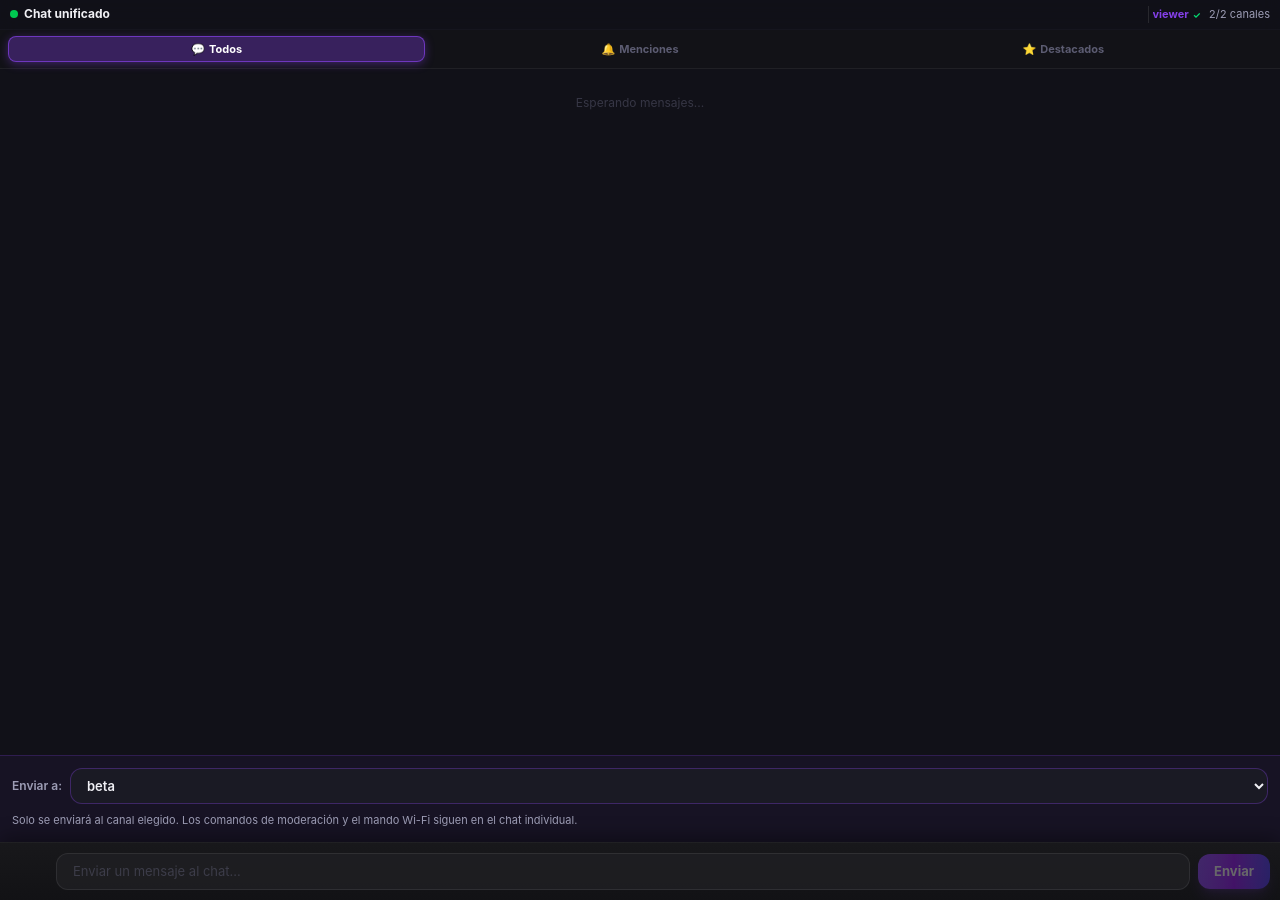
it: unified native Chat › changes the send destination without reconnecting or mixing viewer badges
Type "hi beta" into the field named "Mensaje para beta". click: x=623, y=871
box: [56, 852, 1190, 890]
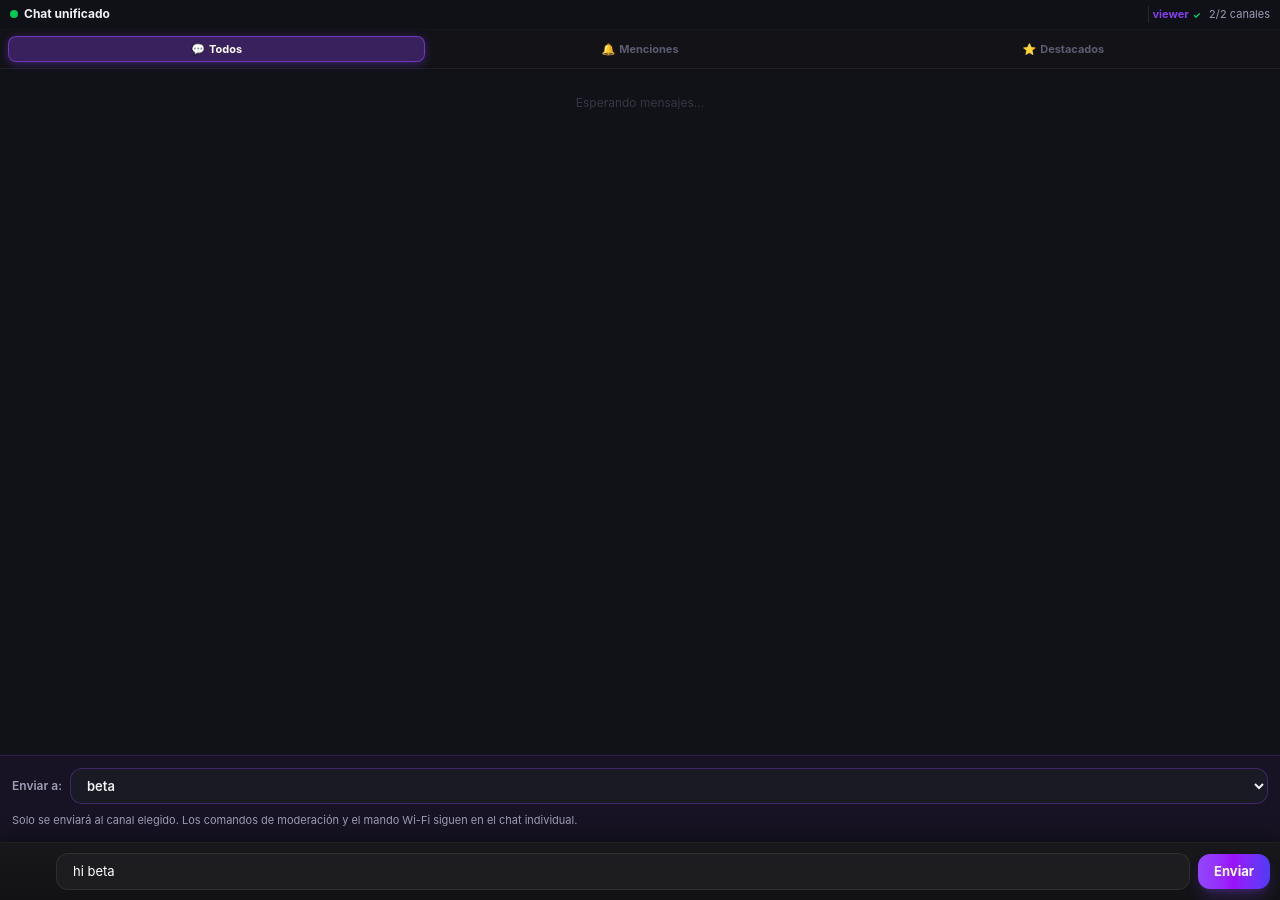
Click the button "Enviar". click: x=1234, y=871
box: [1198, 854, 1270, 889]
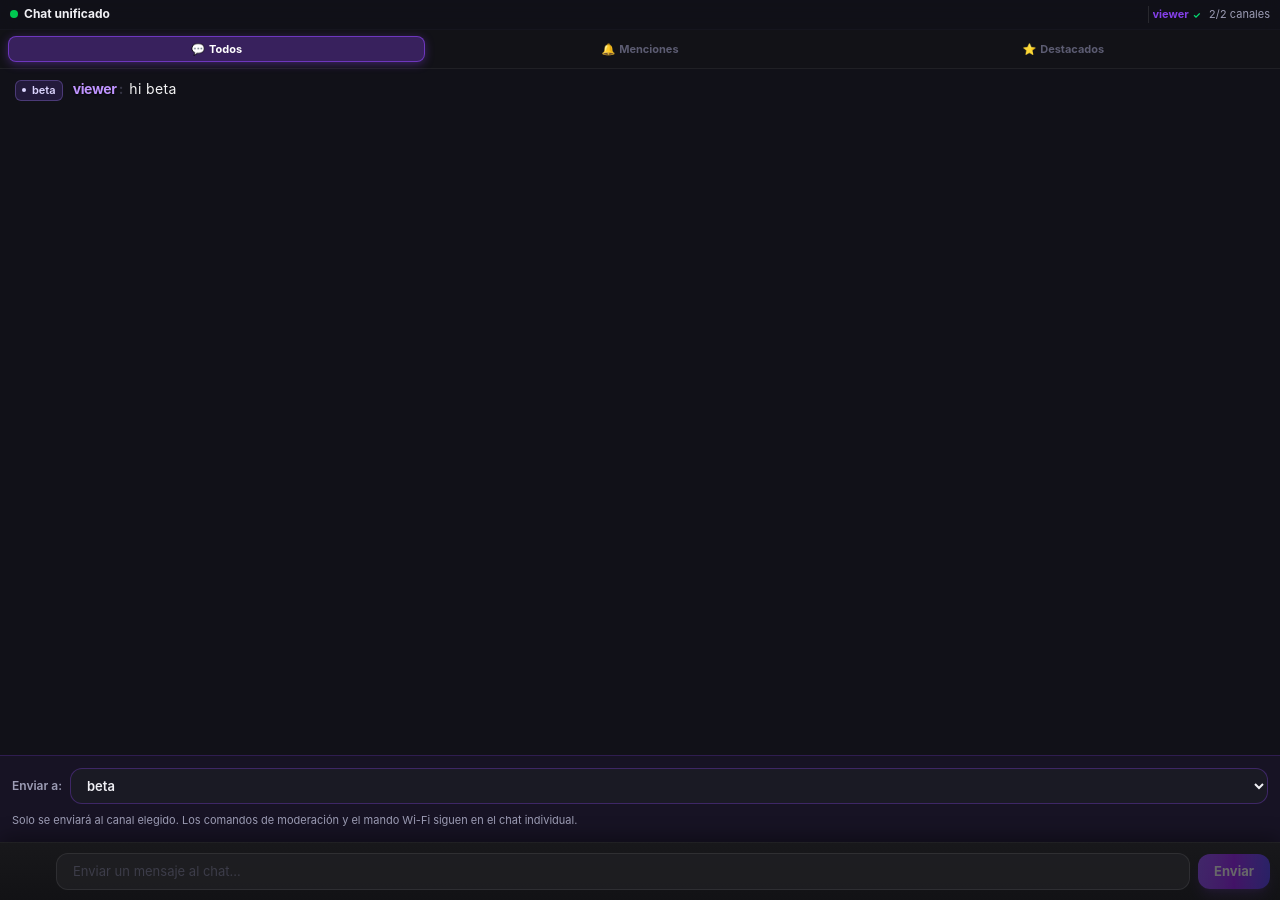
Result: the text "hi beta" is shown at [32, 83, 56, 97]
